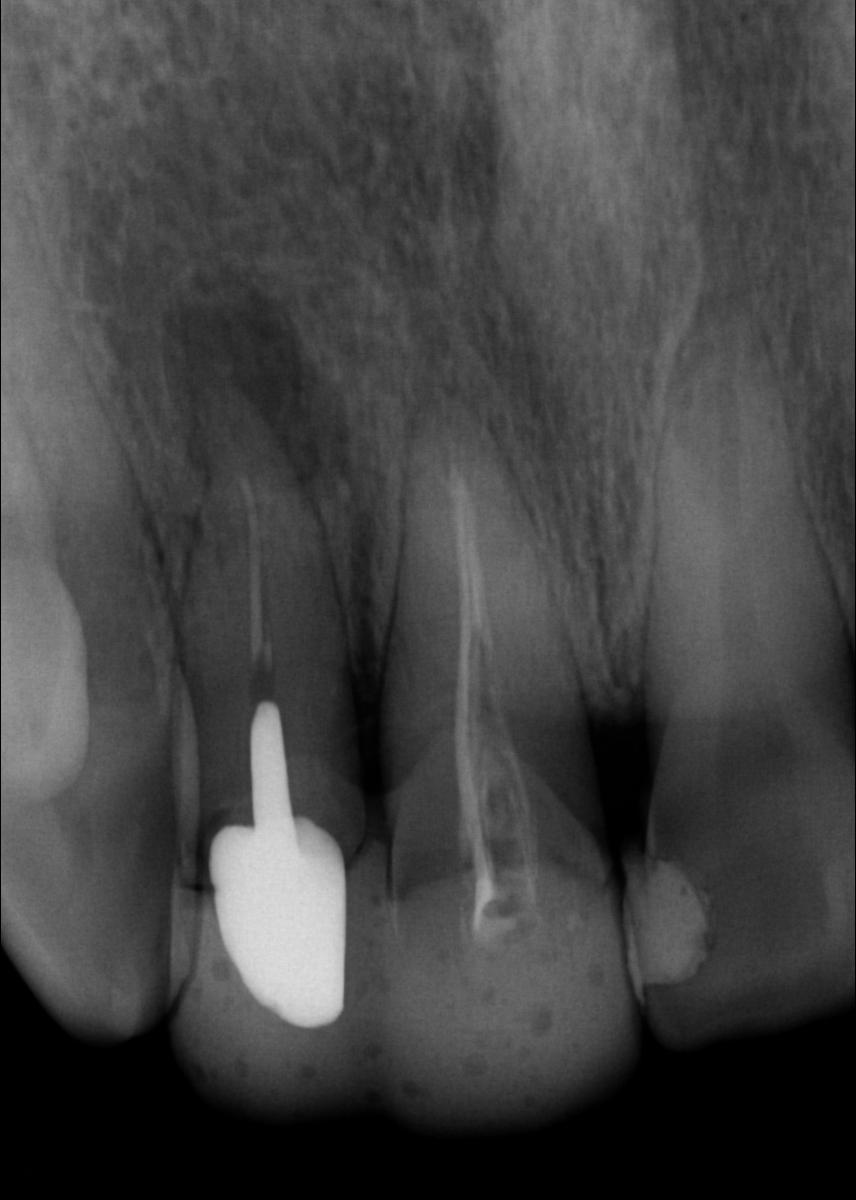Furcation Involvement: (153, 265, 351, 480)
